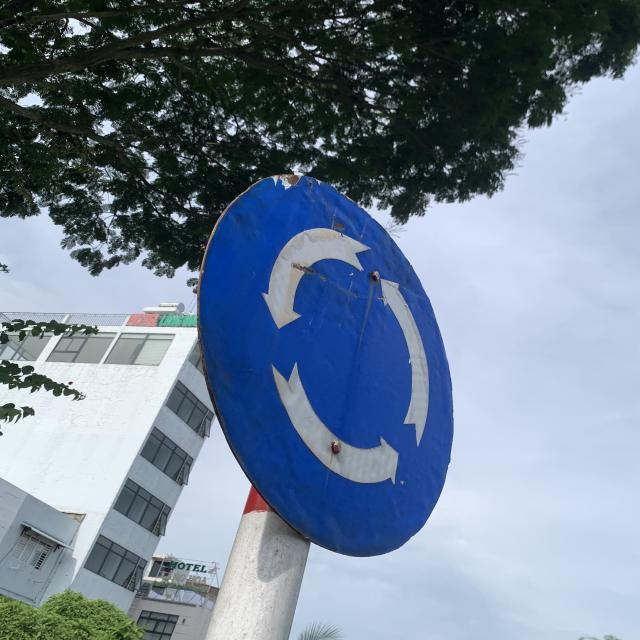Xe_Bus: (195, 170, 454, 560)
